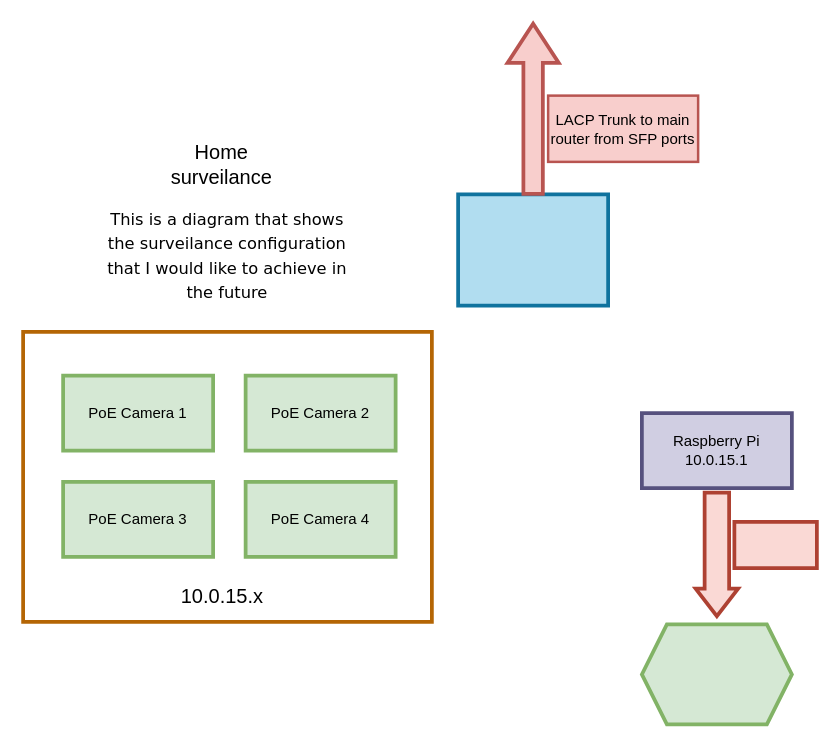
Some shapes in this 840 by 748 pixel diagram are drawn without their labels. Each missing label, with the centre of its shape:
"Cisco WS-C3750-24PS-S R ( PoE switch ) 10.0.99.15" goes at [532,249].
"HDMI Cable" goes at [775,544].
"Living room TV" goes at [716,674].
